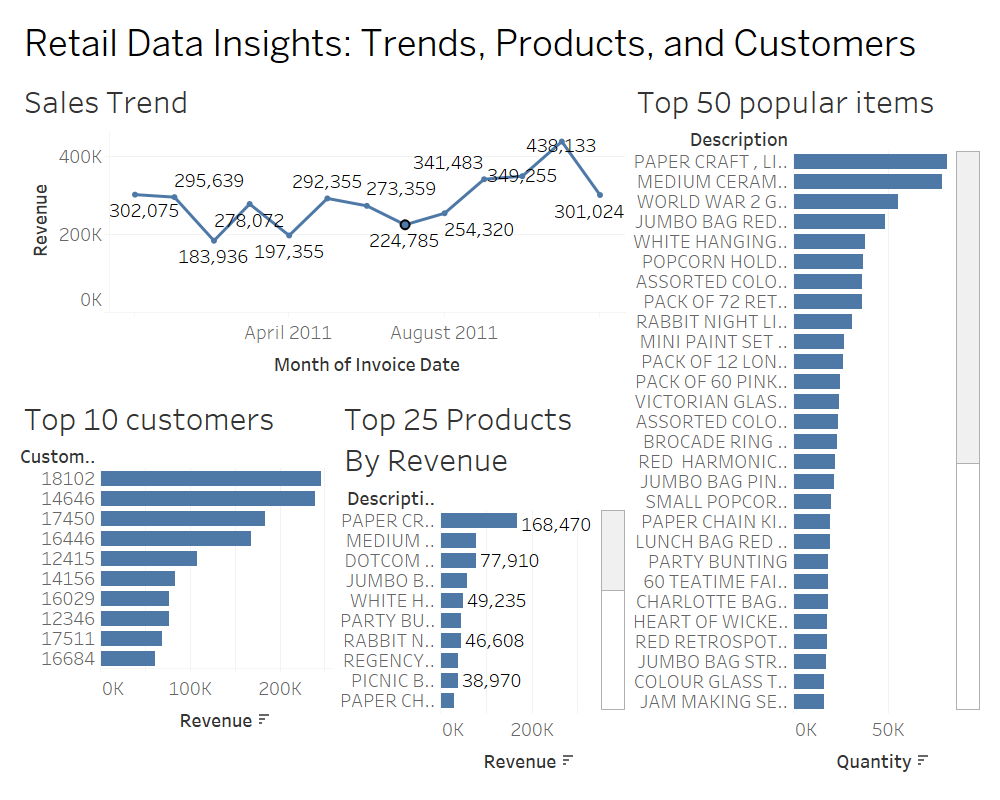

The page's visual inventory and layout, read from the dashboard file:
{"tool":"tableau","page":{"name":"Dashboard 1","canvas":[1000,800],"ordinal":0},"visuals":[{"type":"title","box":[8,8,984,54]},{"type":"worksheet","title":"Sheet 2","mark":"Automatic","rows":["Revenue"],"cols":["InvoiceDate"],"box":[8,62,623,323.8]},{"type":"worksheet","title":"Sheet 5","mark":"Automatic","rows":["Description"],"cols":["Quantity"],"box":[631,62,361,730]},{"type":"worksheet","title":"Sheet 4","mark":"Automatic","rows":["CustomerID"],"cols":["Revenue"],"box":[8,385.8,325,406.2]},{"type":"worksheet","title":"Sheet 3","mark":"Automatic","rows":["Description"],"cols":["Revenue"],"box":[333,385.8,298,406.2]}]}

Visuals, with their boxes in screenshot pixels (x1, y1, x2, y2), scaled from the page's 1000x800 canvas onto the 1000x800 screenshot:
title: locate(8, 8, 992, 62)
"Sheet 2" worksheet: locate(8, 62, 631, 386)
"Sheet 5" worksheet: locate(631, 62, 992, 792)
"Sheet 4" worksheet: locate(8, 386, 333, 792)
"Sheet 3" worksheet: locate(333, 386, 631, 792)
